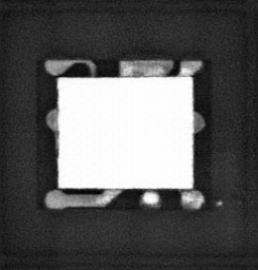DIE_INK: (215, 198, 224, 208)
